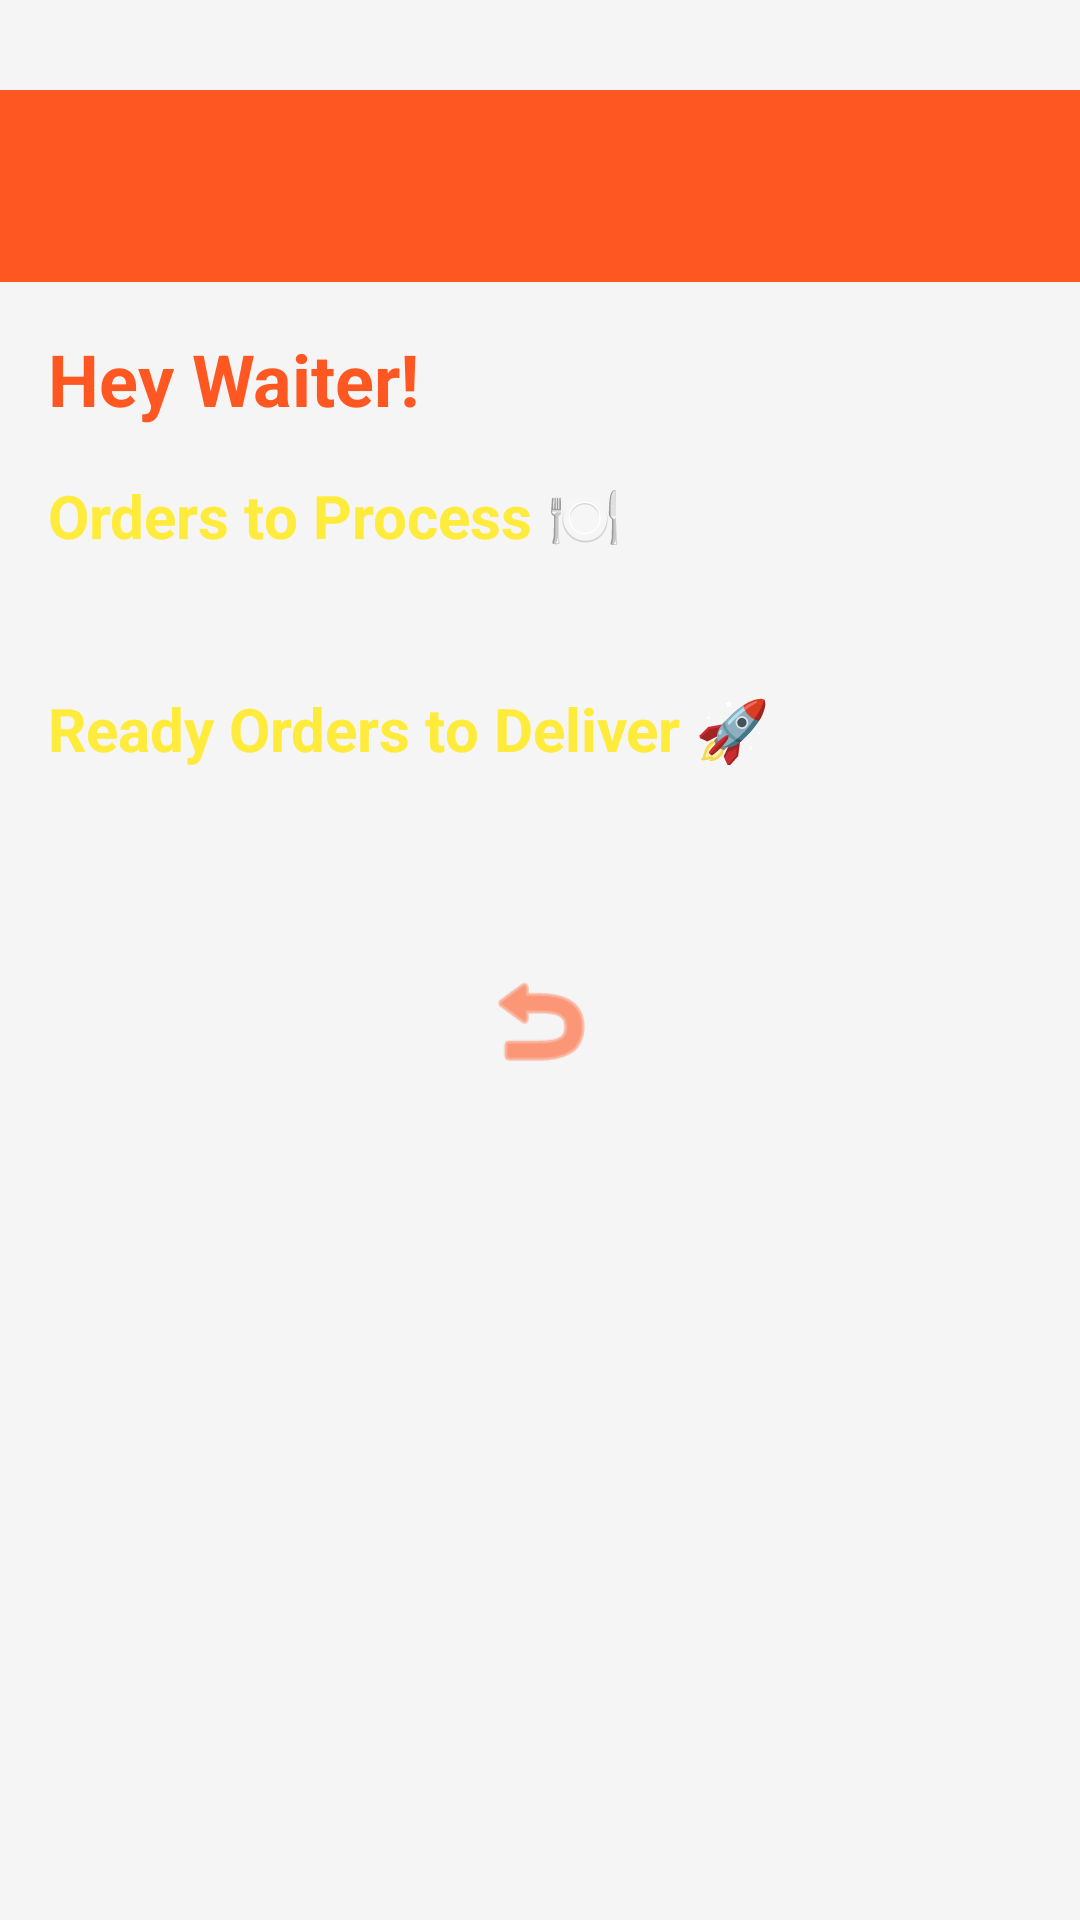

Named icons in this screenshot (1080w x 1920h) and their bounding boxes, {"x1": x1, "y1": y1, "x2": x2, "y2": y2}:
Back: {"x1": 498, "y1": 983, "x2": 585, "y2": 1061}
